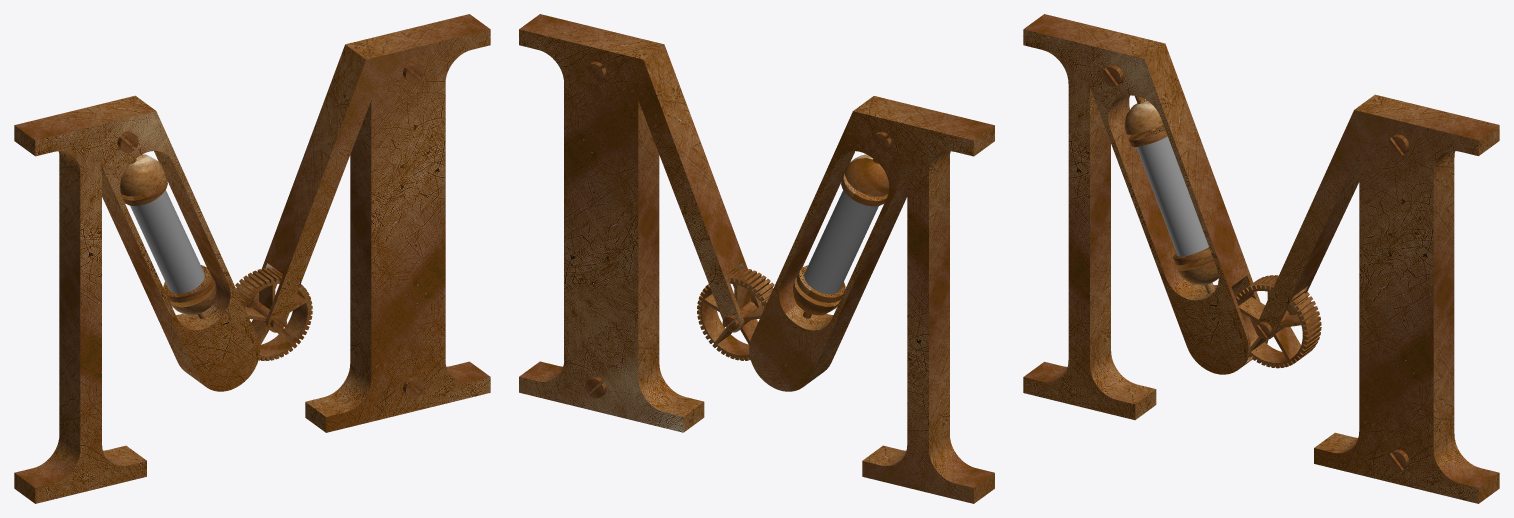
3 views of the same model, side by side, from view 1: azimuth 30°, elevation 25°; view 2: azimuth 150°, elevation 25°; view 3: azimuth 330°, elevation 25° (orthographic).
Visible parts, largest first — view 1: M, Tube073, Cogwheel_336, Sphere_091, Sphere_092, Tube074, Tube072; view 2: M, Tube073, Cogwheel_336, Sphere_091, Sphere_092, Tube074, Tube072; view 3: M, Cogwheel_336, Tube073, Sphere_091, Sphere_092.
Part boxes in pixels (x1,y1,x2,y2): M: (14,14,490,503); Tube073: (130,190,204,293); Cogwheel_336: (235,268,312,360); Sphere_091: (120,154,164,196); Sphere_092: (169,276,216,315); Tube074: (163,265,212,302); Tube072: (121,174,167,205); M: (519,14,994,503); Tube073: (804,190,878,294); Cogwheel_336: (697,268,774,360); Sphere_091: (844,154,889,196); Sphere_092: (793,278,840,315); Tube074: (796,265,845,302); Tube072: (841,174,888,206); M: (1023,14,1499,503); Cogwheel_336: (1235,275,1321,368); Tube073: (1136,136,1208,256); Sphere_091: (1124,100,1163,134); Sphere_092: (1176,255,1218,285).
Bounding box in the file's own units: 125 × 95.79 × 12.89.
2 materials, 1 textured.
